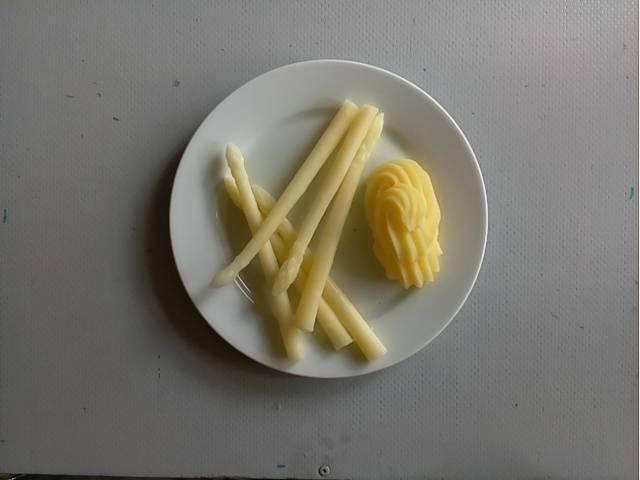Asparagus + mashed potatoes: (199, 102, 443, 361)
